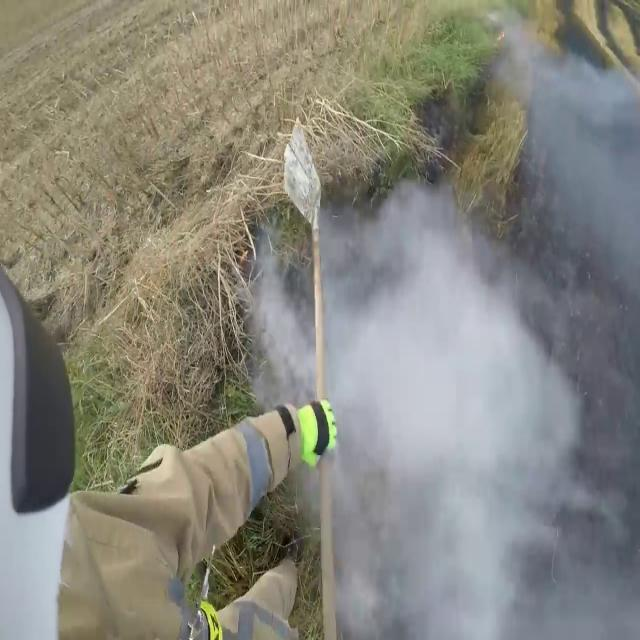Smoke: (245, 198, 588, 636), (514, 15, 640, 268)
